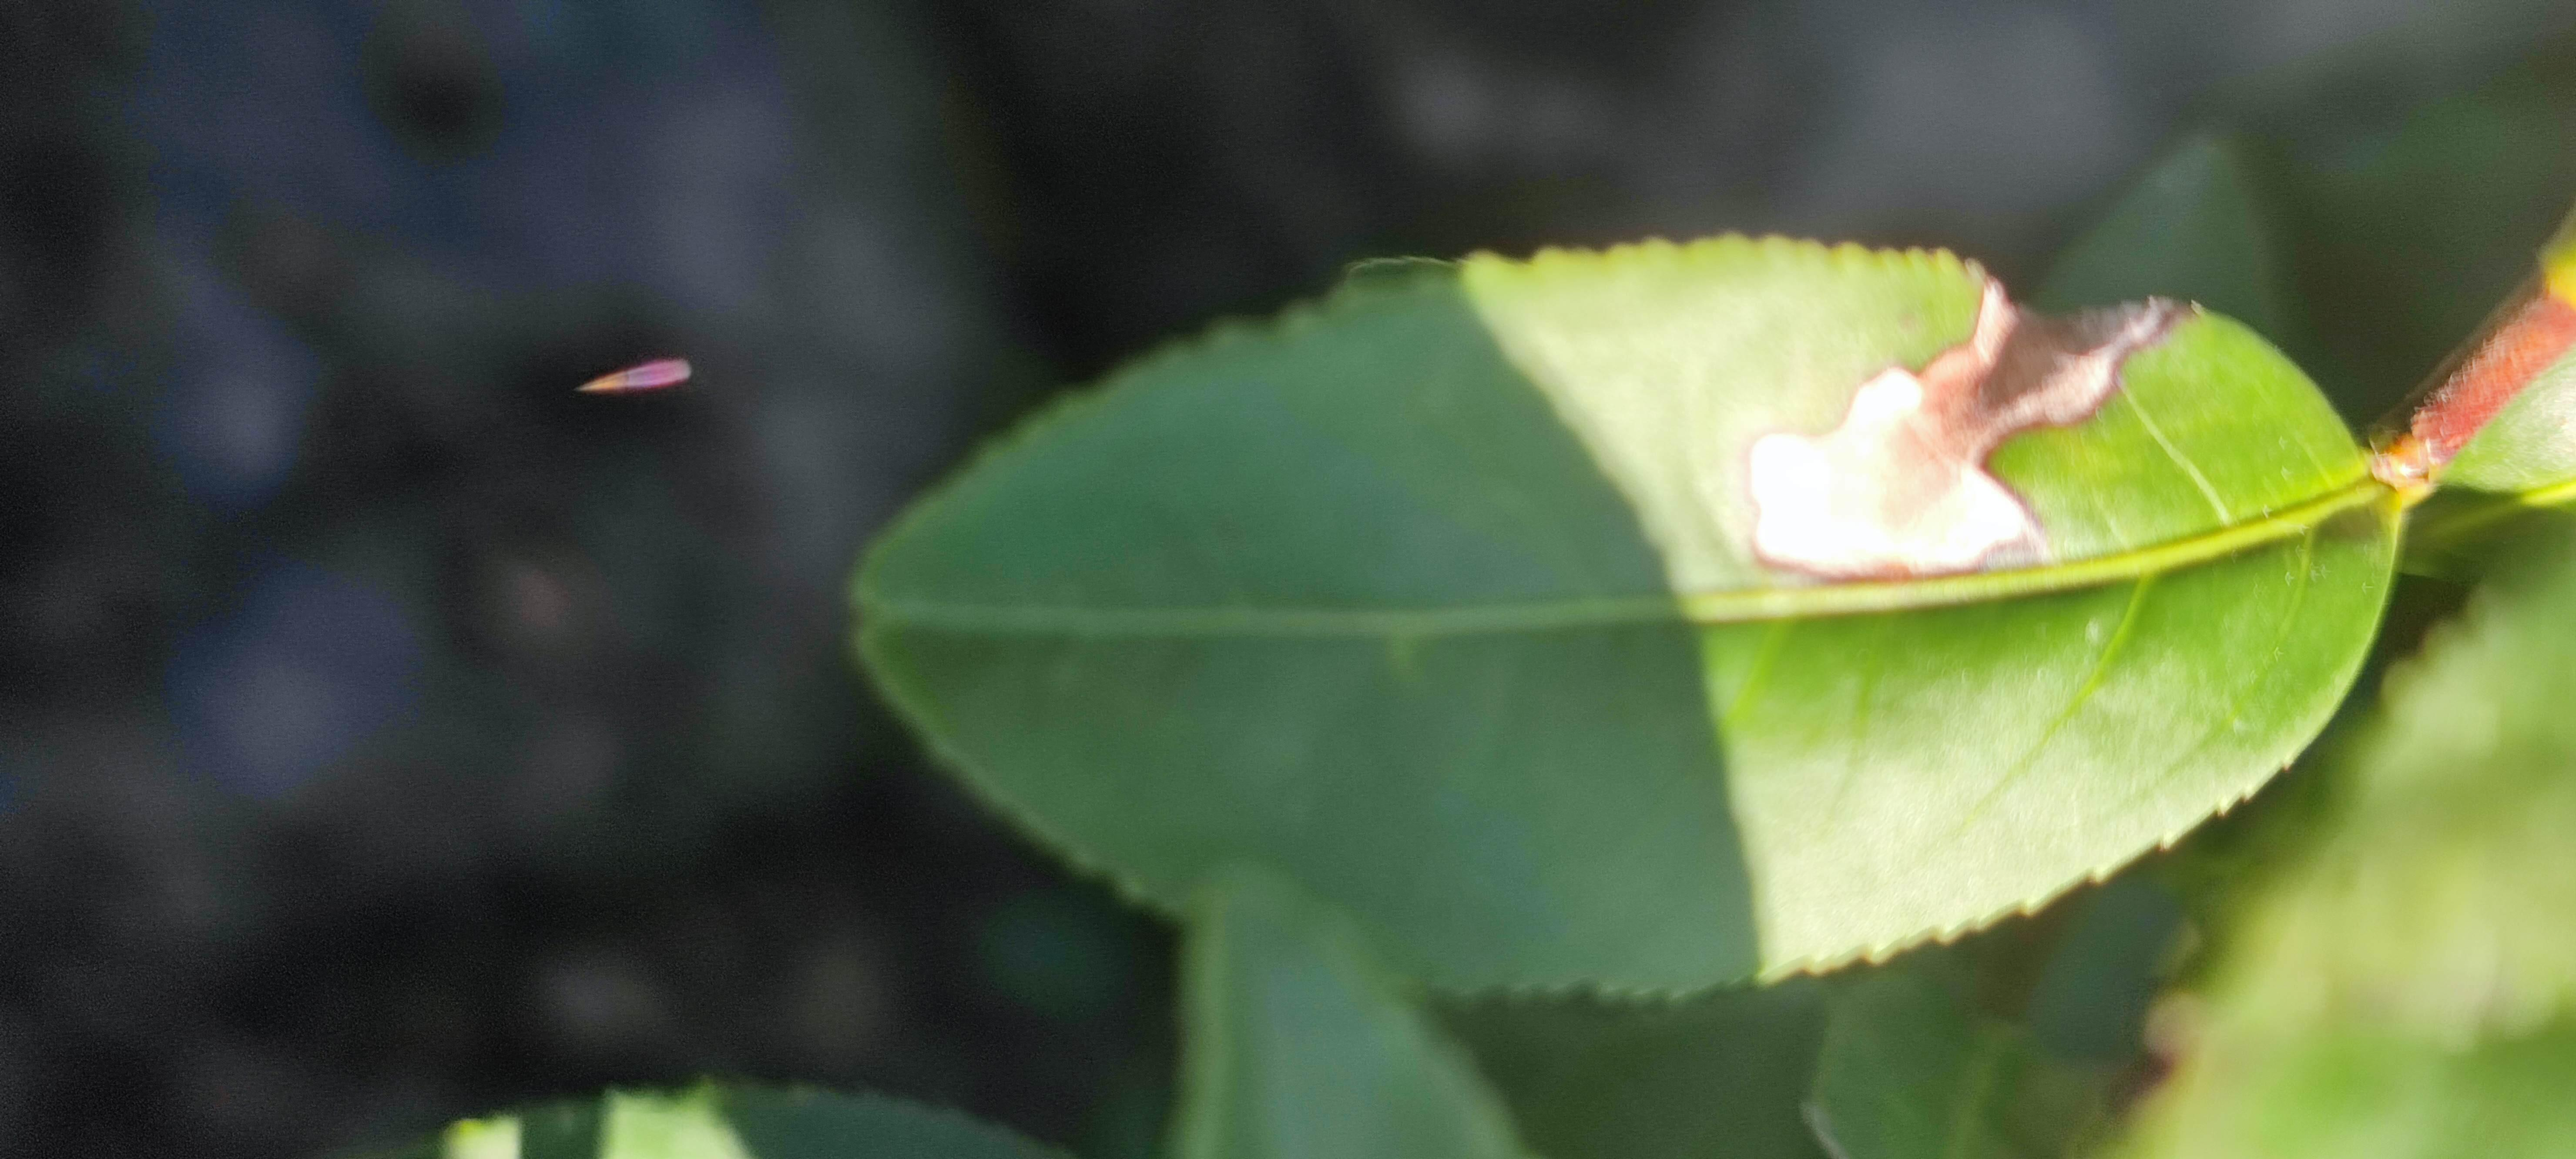tanju_high: (843, 231, 2403, 1006)
